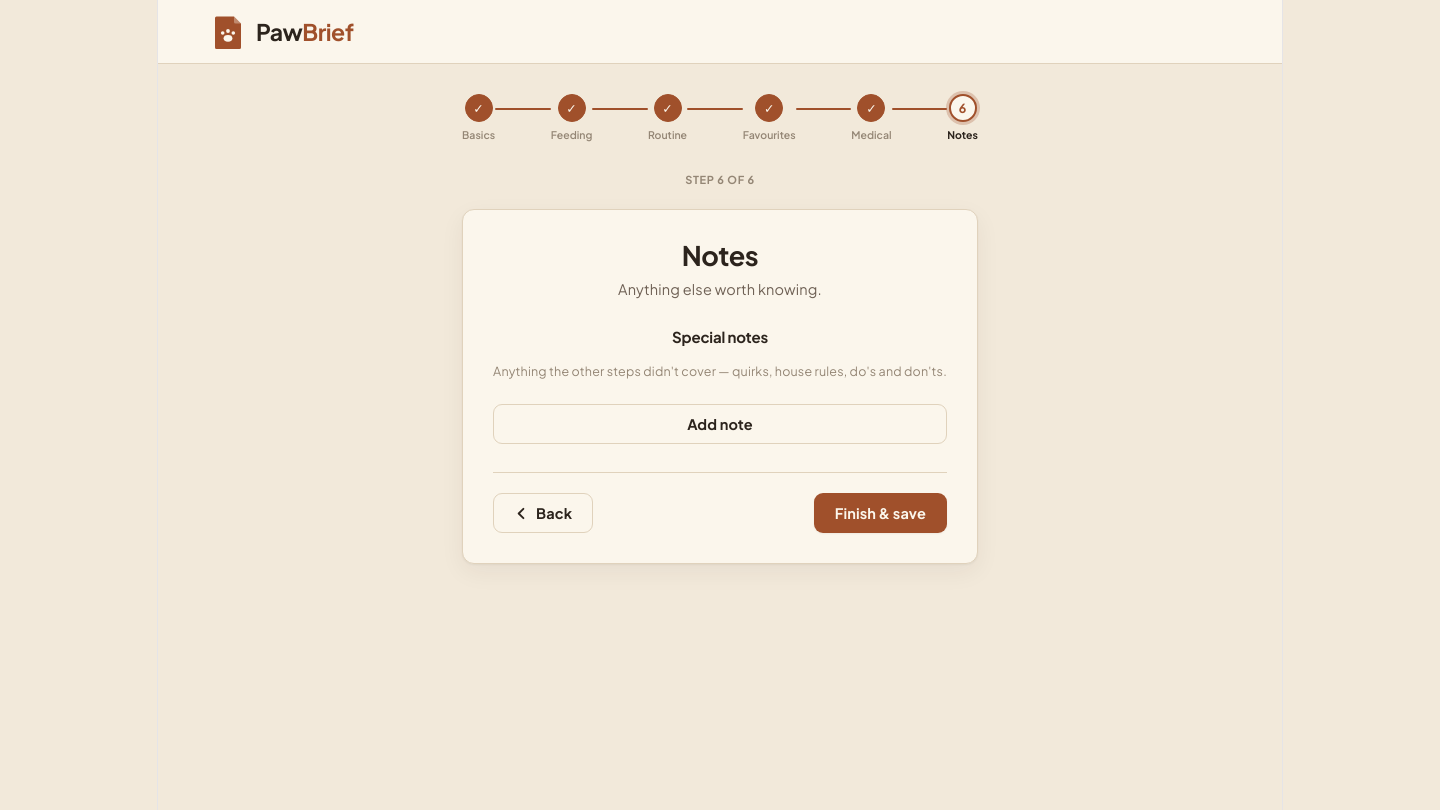
Scenario: WizardPage Finish flow › shows a success dialog when Finish is clicked on the Notes step
Click the button "Finish & save" at (880, 513), box [814,493,947,533]
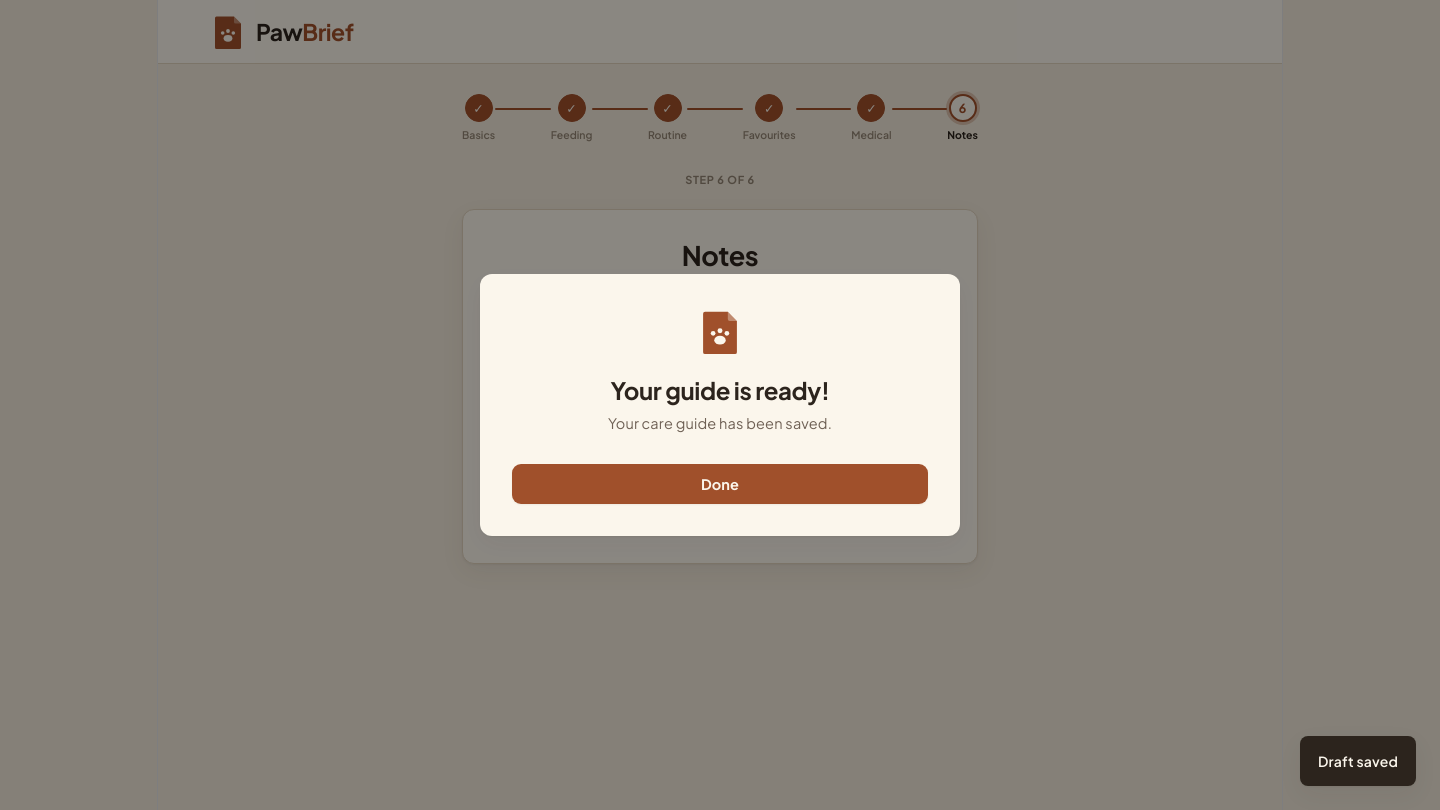
Expected: the dialog is shown, [480,274,960,536]
